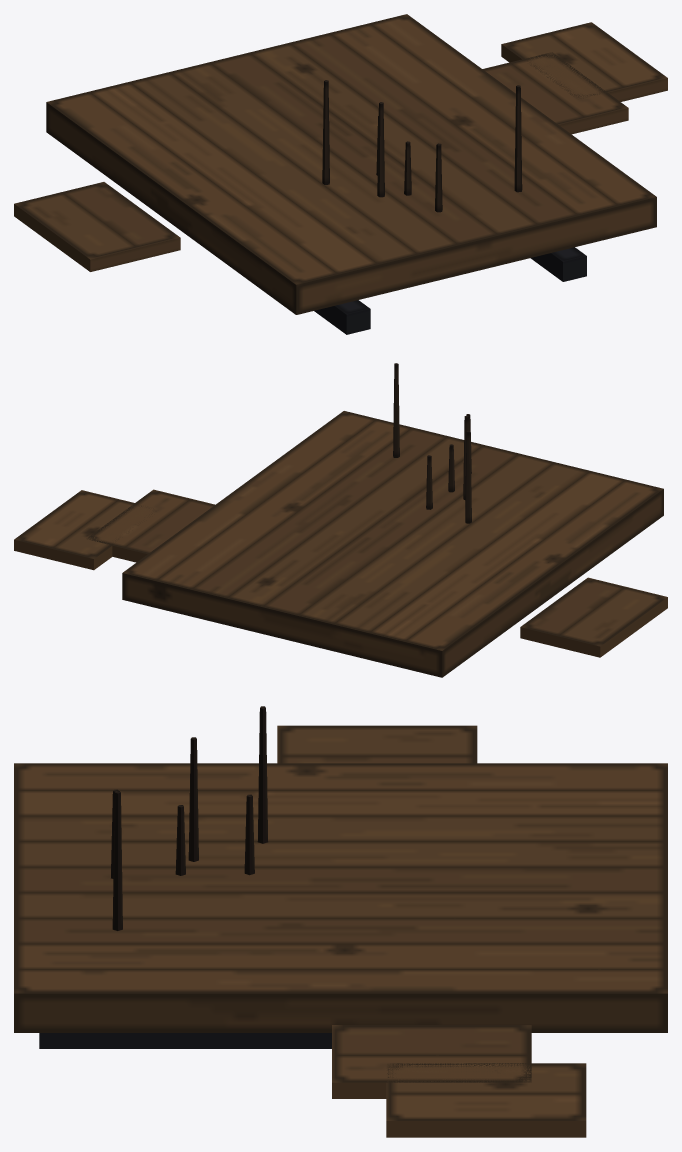
File: FlureLedge.obj
3 views of the same model, one above another, from view 1: azimuth 30°, elevation 25°; view 2: azimuth 150°, elevation 25°; view 3: azimuth 270°, elevation 25° (orthographic). The views are drawn at different scales.
Parts seen in each view (by area): view 1: FlureLedge; view 2: FlureLedge; view 3: FlureLedge.
Boxes of the visible parts, x1,y1,x2,y2 form: FlureLedge: (14,14,667,334); FlureLedge: (14,363,667,677); FlureLedge: (14,706,667,1137).
Bounding box in the file's own units: 5.15 × 1.41 × 3.6.
Materials: 1 (1 with a texture image).
